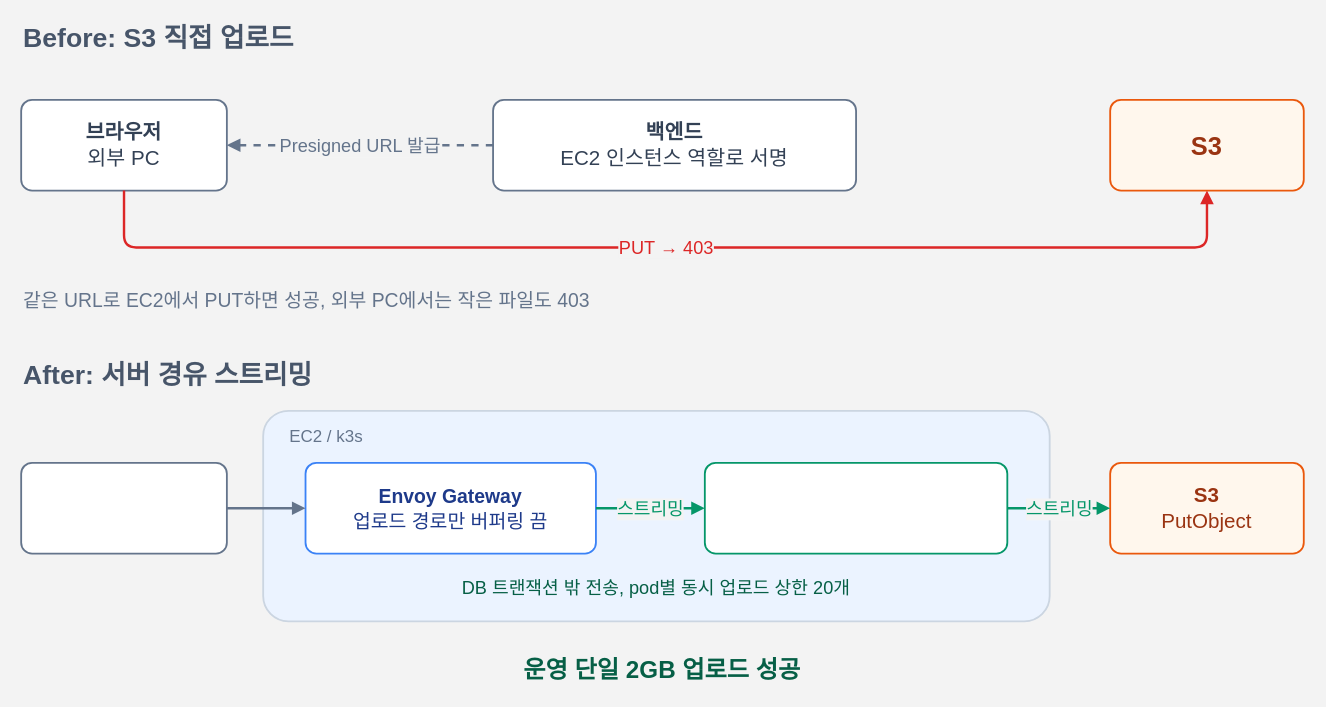
The diagram is 1326 pixels wide and 707 high, and some of its shapes have lost their labels. Here are the shapes that lost their labels. From the top down, the centre of each, then its label:
the point at 123,507: 브라우저 본문 PUT
the point at 855,507: 백엔드 본문 전체 적재 없이 전달
